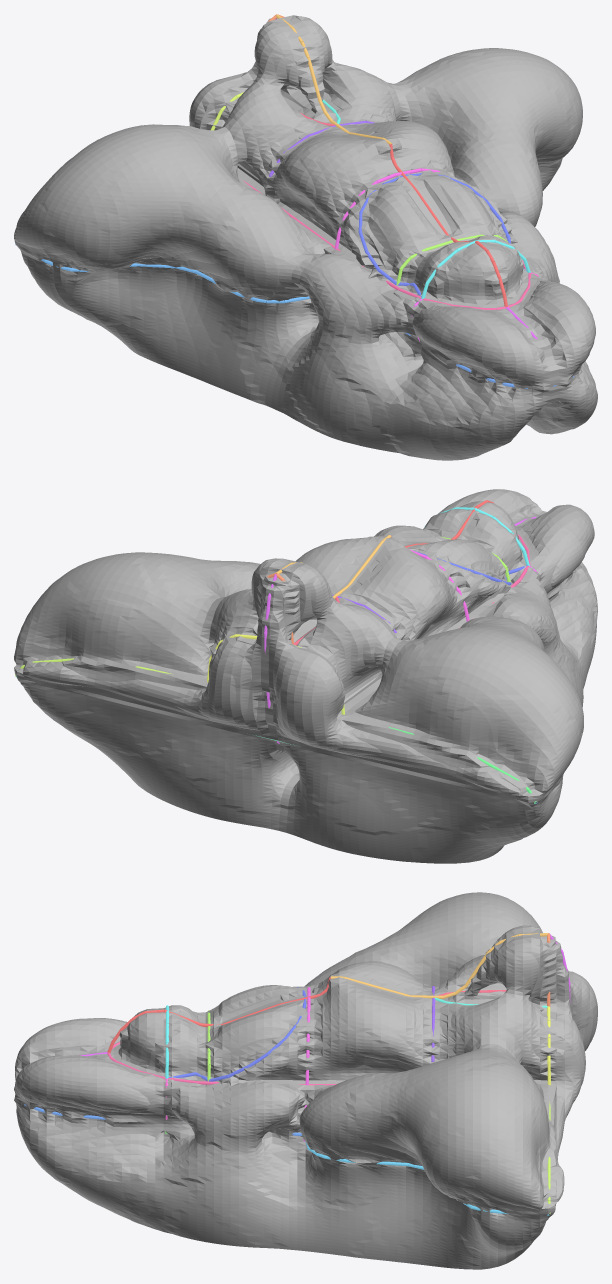
The model's file is t2f_fighter.gltf.
3 views of the same model, one above another, from view 1: azimuth 30°, elevation 25°; view 2: azimuth 150°, elevation 25°; view 3: azimuth 270°, elevation 25° (orthographic). The views are drawn at different scales.
Bounding box in the file's own units: 0.7249 × 0.3389 × 0.7053.
